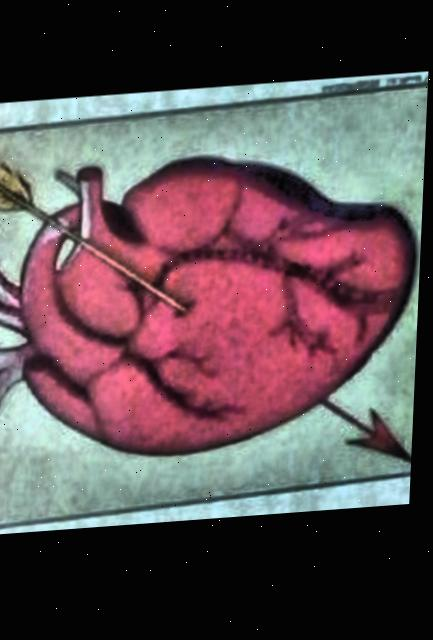El Corazon: (0, 90, 429, 528)
